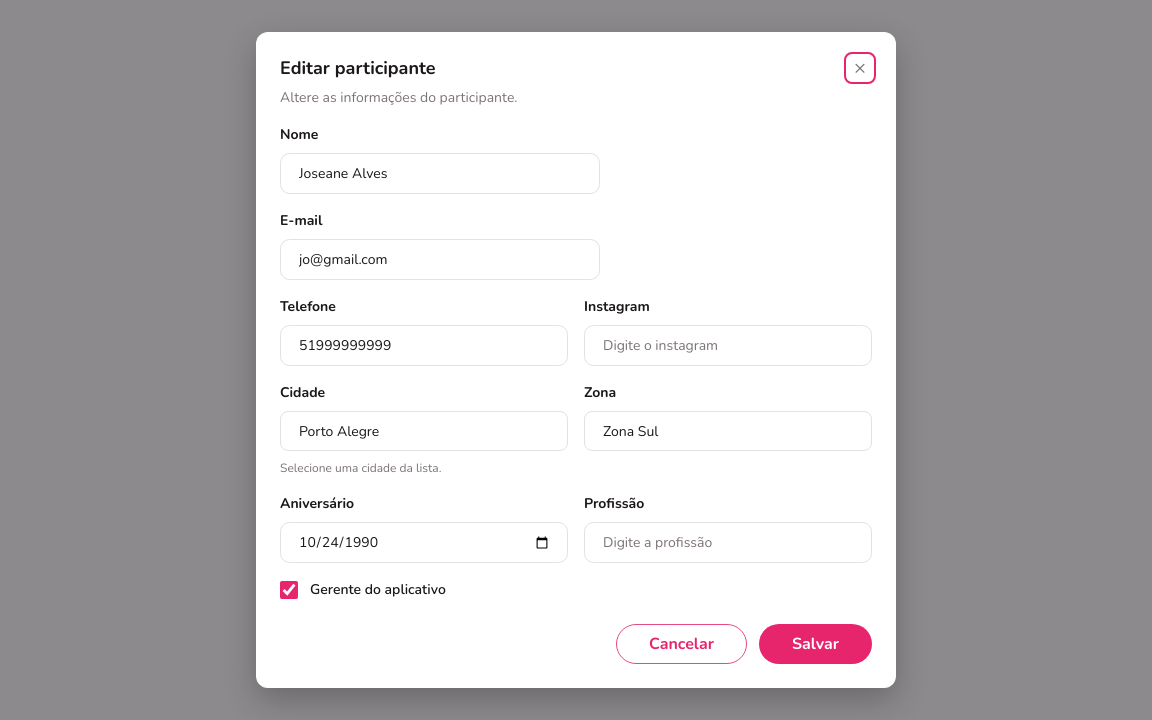
Scenario: ParticipantModal › disables saving while a required field is empty
Clear the field labelled "Nome": point(440, 174) [297,162,583,185]
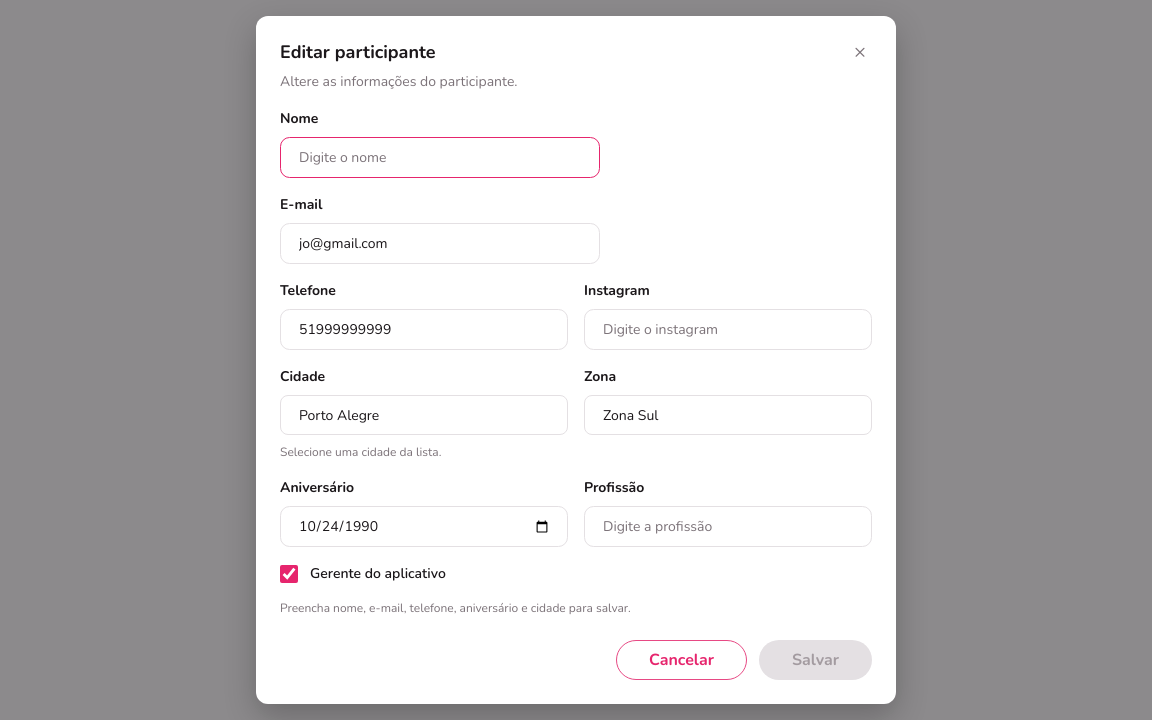
Expected: the button "Salvar" is disabled, [759,640,872,680]
